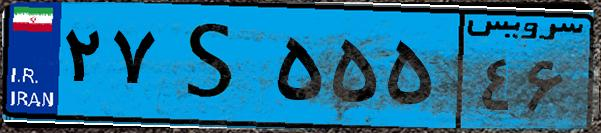2: (57, 26, 110, 100)
4: (475, 38, 525, 113)
5: (270, 28, 330, 110), (385, 28, 445, 110), (330, 28, 385, 110)
6: (525, 38, 570, 115)
7: (110, 28, 158, 98)
S: (158, 12, 270, 120)
